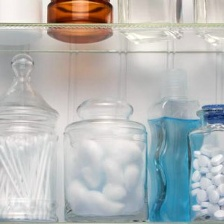bottle: (61, 91, 147, 224), (0, 50, 62, 223), (145, 61, 206, 224), (186, 96, 224, 224)
